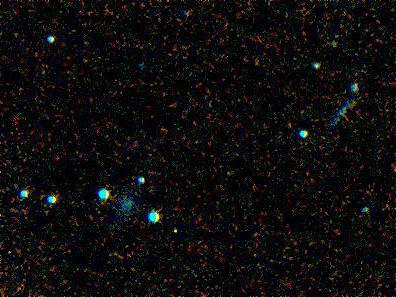star: (163, 215, 193, 245)
